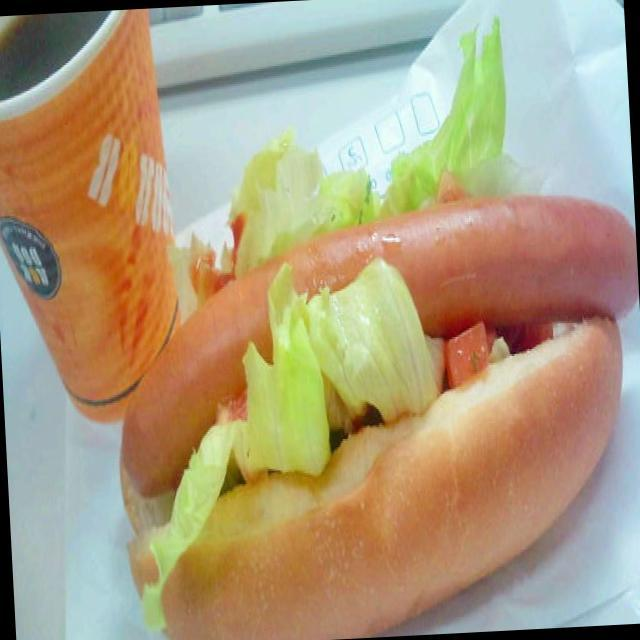Hot Dog: (102, 147, 640, 640)
